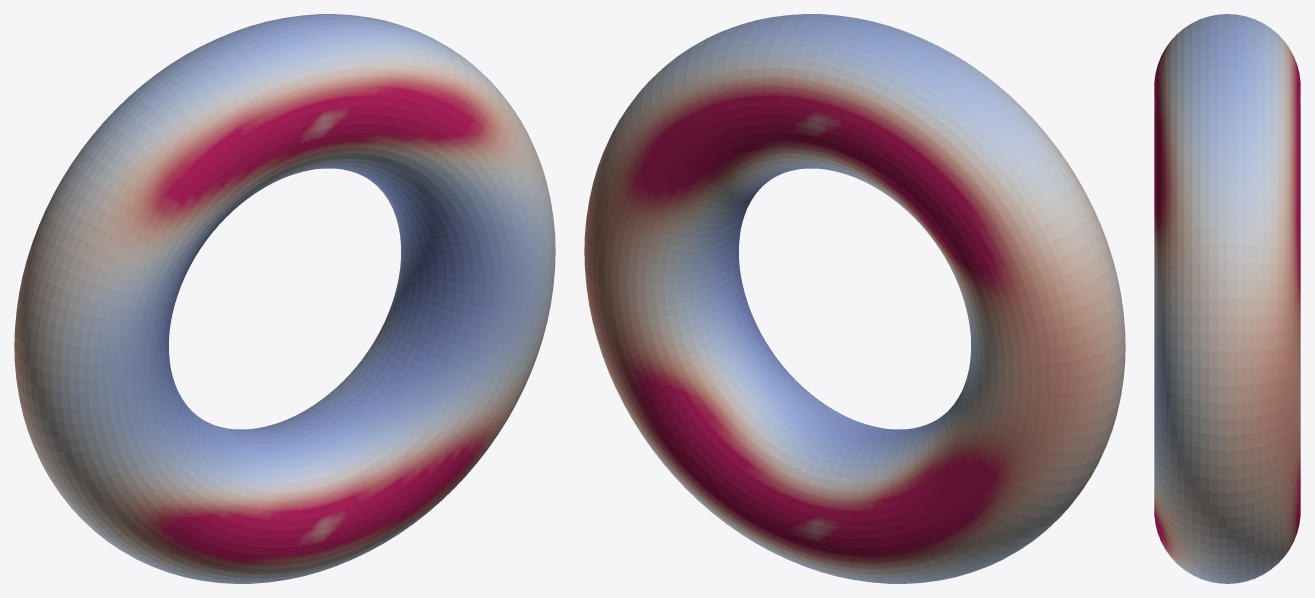
3 views of the same model, side by side, from view 1: azimuth 30°, elevation 25°; view 2: azimuth 150°, elevation 25°; view 3: azimuth 270°, elevation 25° (orthographic). The views are drawn at different scales.
Parts seen in each view (by area): view 1: world; view 2: world; view 3: world.
Part boxes in pixels (x1,y1,x2,y2): world: (14,14,555,583); world: (584,14,1125,583); world: (1154,14,1300,583).
Size of the model in its own units: 23.33 by 23.33 by 5.99.
